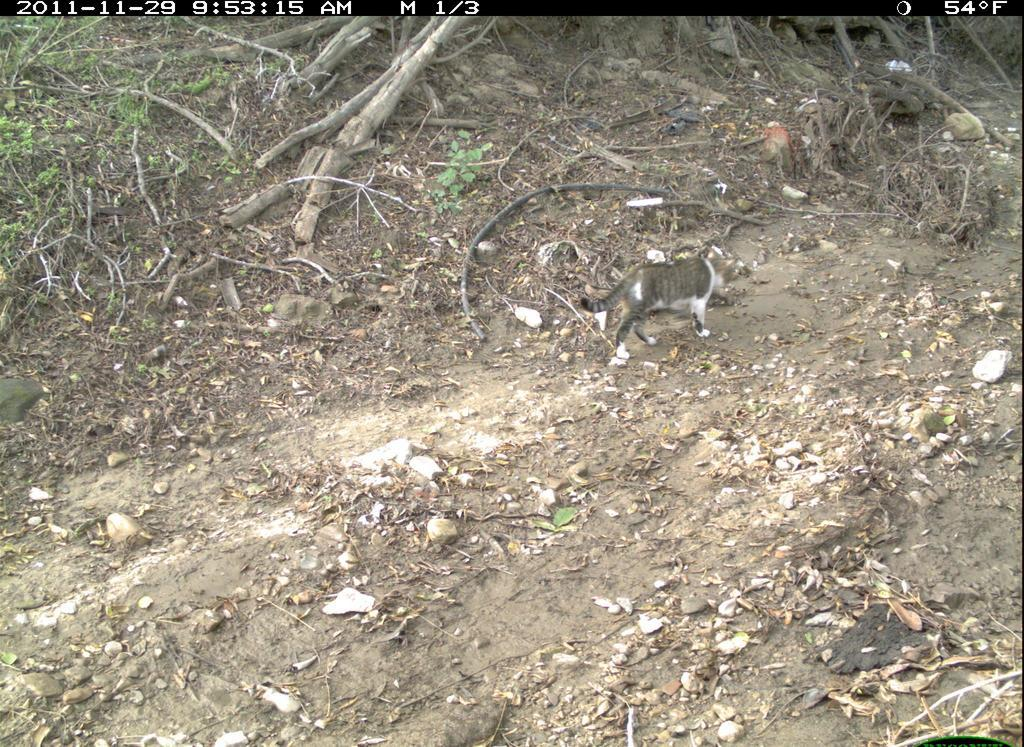cat: (566, 230, 745, 374)
